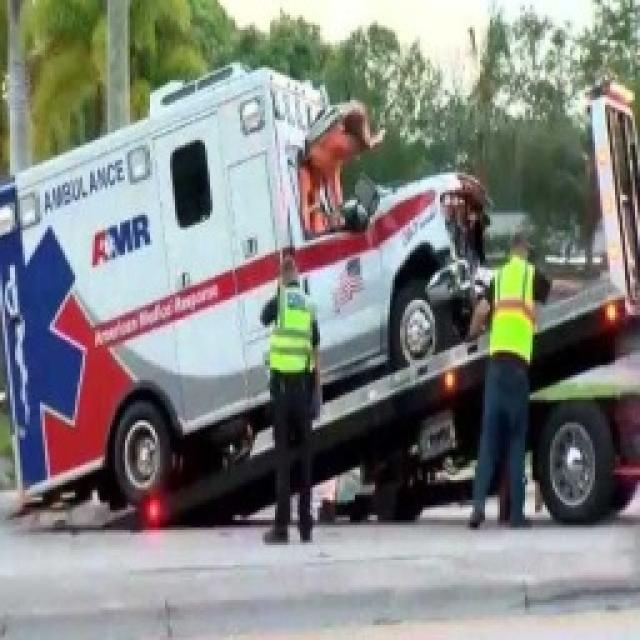emergency-vehicle: (0, 62, 483, 536)
